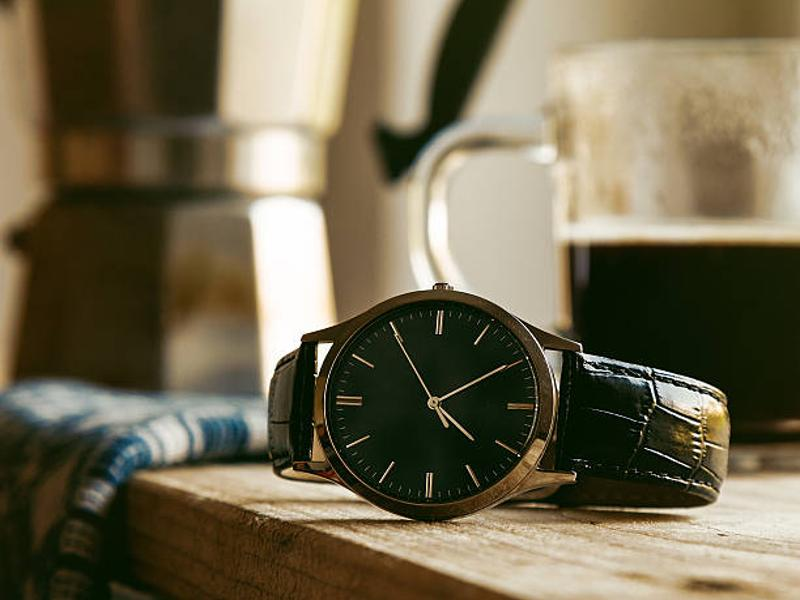watch: (264, 284, 737, 519)
